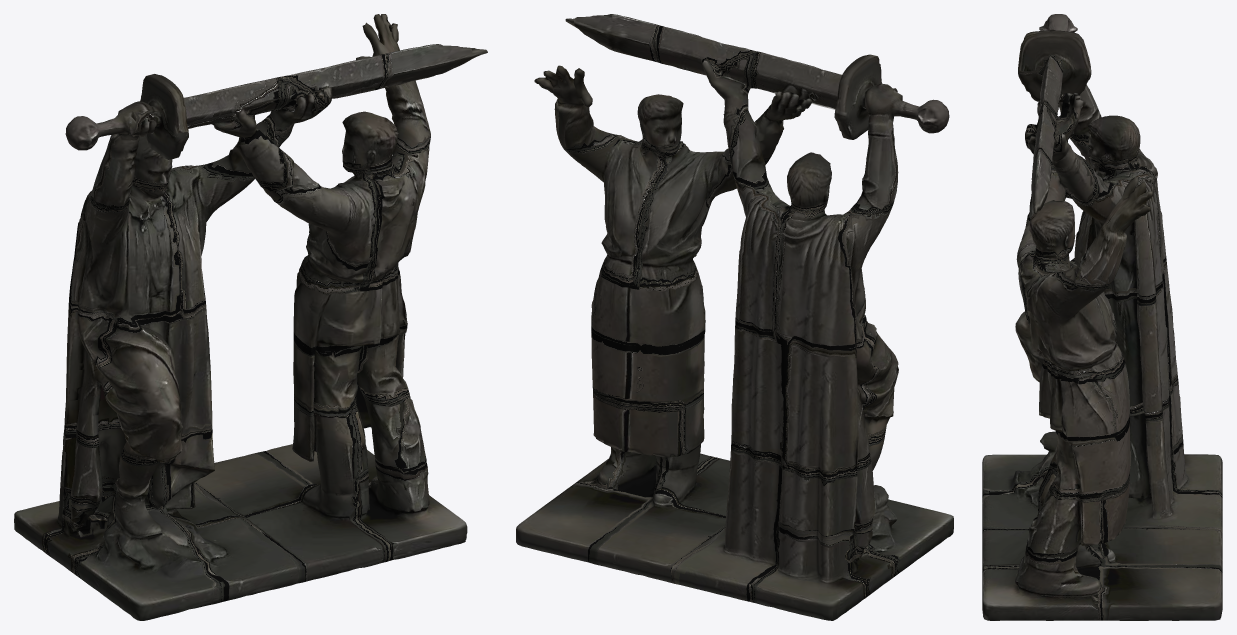
The model's file is tlfront-monument.glb.
3 renders of one model, left to right at view 1: azimuth 30°, elevation 25°; view 2: azimuth 150°, elevation 25°; view 3: azimuth 270°, elevation 25°, orthographic. The views are drawn at different scales.
Parts seen in each view (by area): view 1: tmpu1xcts1_obj; view 2: tmpu1xcts1_obj; view 3: tmpu1xcts1_obj.
Boxes of the visible parts, bbox=[...] form: tmpu1xcts1_obj: bbox=[14, 14, 487, 620]; tmpu1xcts1_obj: bbox=[516, 14, 953, 620]; tmpu1xcts1_obj: bbox=[982, 14, 1222, 620].
Bounding box in the file's own units: 0.8485 × 1 × 0.4653.
1 material, 1 textured.
